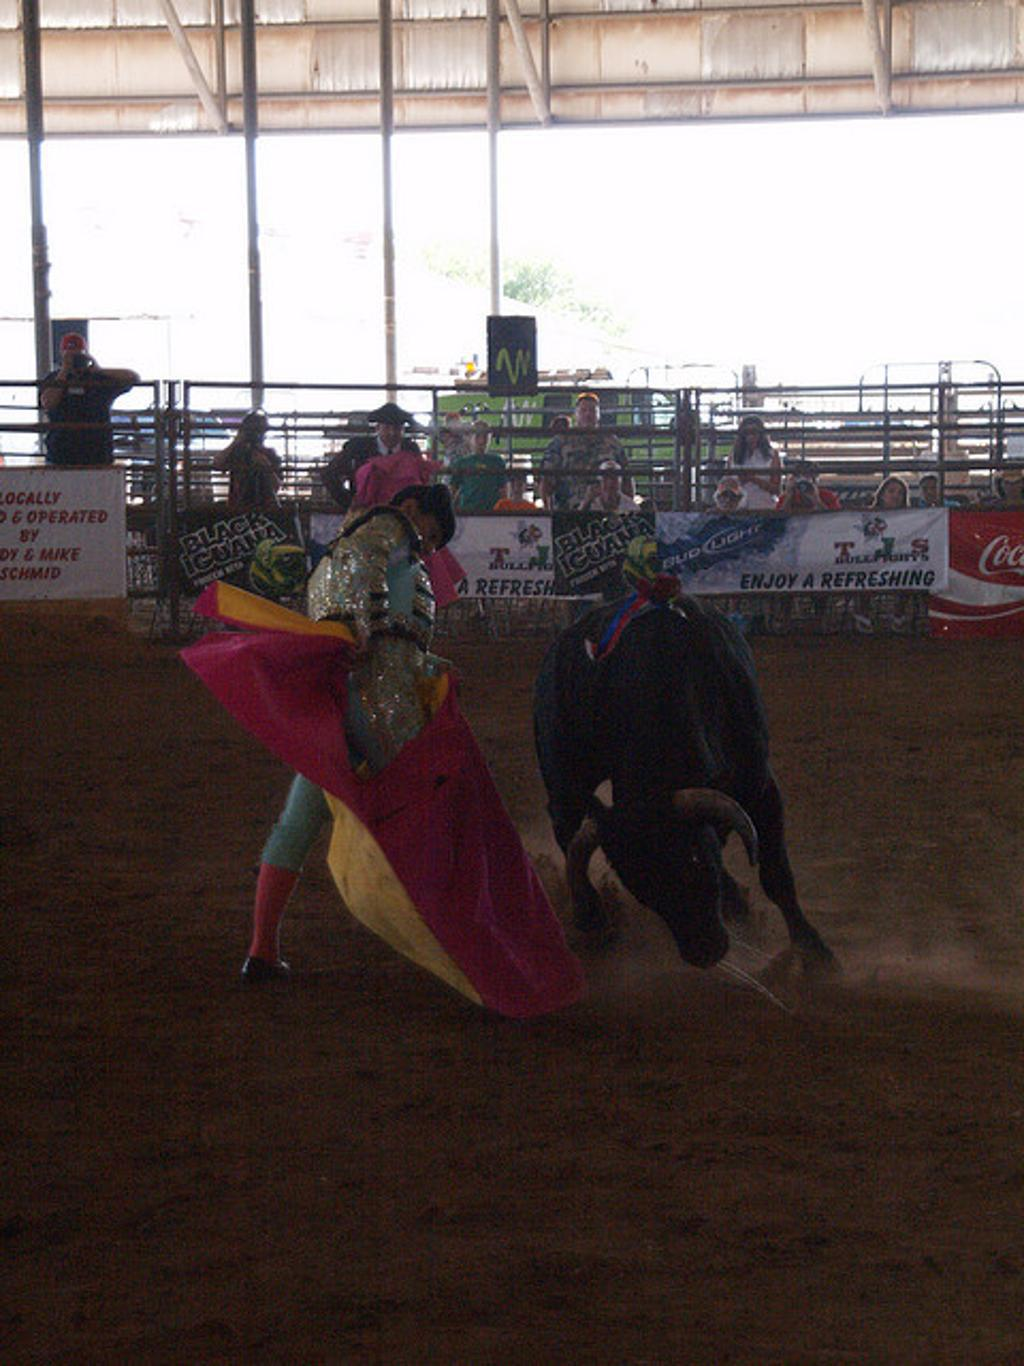face: (405, 508, 445, 562), (64, 340, 86, 376), (381, 421, 403, 448), (245, 419, 265, 447), (579, 401, 599, 426), (885, 483, 905, 508), (603, 466, 620, 494), (1003, 475, 1022, 497), (719, 491, 736, 512), (472, 426, 488, 449), (745, 425, 760, 447), (922, 480, 937, 500), (494, 481, 508, 499), (860, 490, 876, 506)
